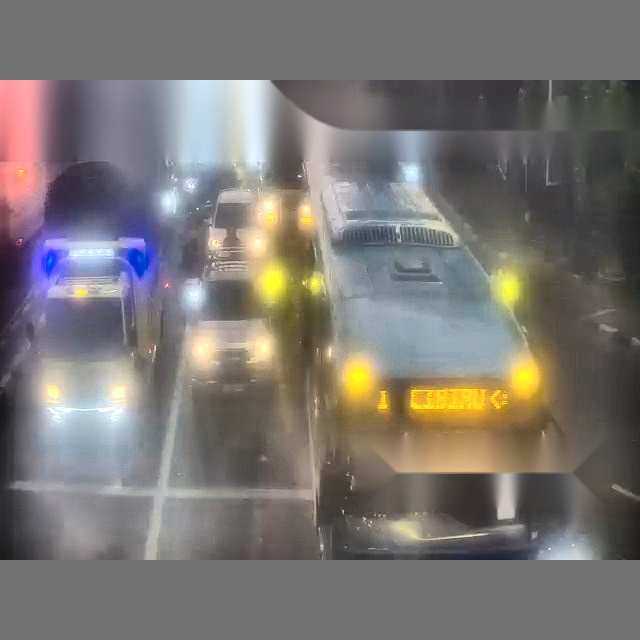Motor: (490, 254, 526, 314)
Truk: (0, 80, 50, 247)
